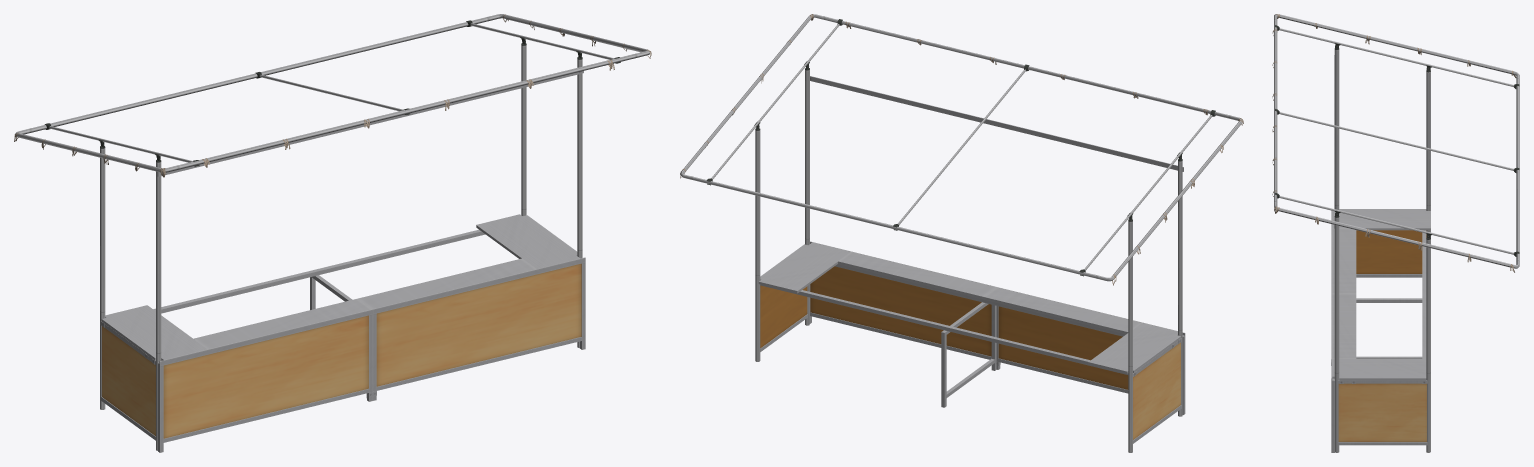
File: jsf_4P_s04_c05_t03.fbx
The picture shows the model from 3 angles, left to right: view 1: azimuth 30°, elevation 25°; view 2: azimuth 150°, elevation 25°; view 3: azimuth 270°, elevation 25°; orthographic projection. The views are drawn at different scales.
Visible parts, largest first — view 1: Base_s04_c05, Pillar4_s04, Table_4P_s04_t03, Rope_4P_s04; view 2: Base_s04_c05, Pillar4_s04, Table_4P_s04_t03, Support; view 3: Pillar4_s04, Base_s04_c05, Table_4P_s04_t03, Support, Rope_4P_s04.
Part boxes in pixels (<box>): Base_s04_c05: <box>100,257,585,452</box>; Pillar4_s04: <box>14,14,649,450</box>; Table_4P_s04_t03: <box>101,214,579,364</box>; Rope_4P_s04: <box>14,14,651,177</box>; Base_s04_c05: <box>760,241,1185,443</box>; Pillar4_s04: <box>680,14,1242,452</box>; Table_4P_s04_t03: <box>758,242,1181,376</box>; Support: <box>941,302,996,407</box>; Pillar4_s04: <box>1274,14,1519,452</box>; Base_s04_c05: <box>1331,210,1427,452</box>; Table_4P_s04_t03: <box>1332,209,1430,383</box>; Support: <box>1356,298,1422,358</box>; Rope_4P_s04: <box>1272,14,1516,272</box>.
Bounding box in the file's own units: 395 × 243 × 211.
